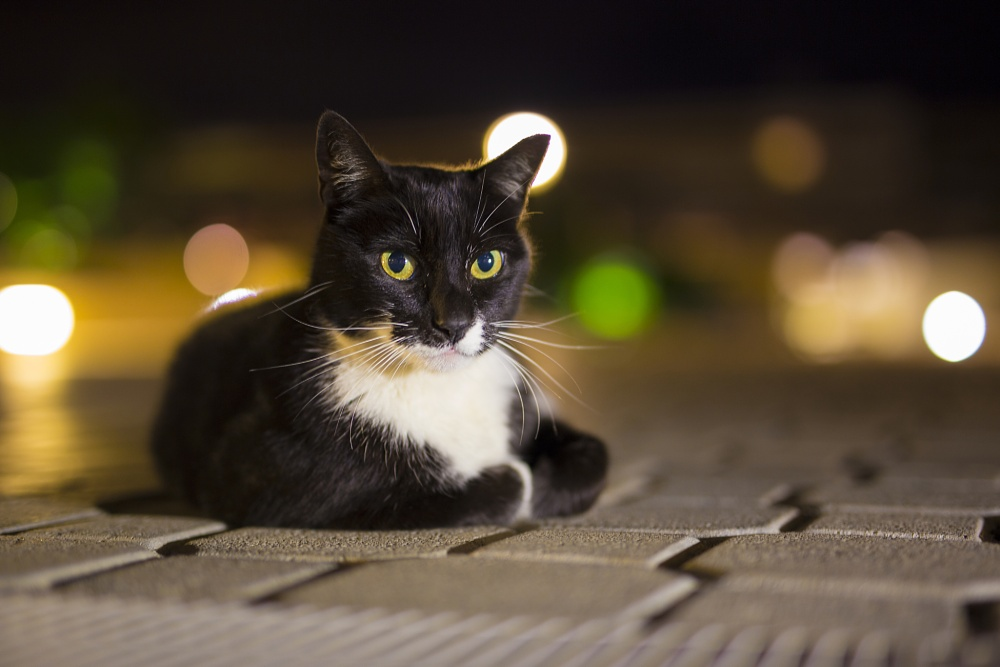Cat: (148, 109, 615, 533)
